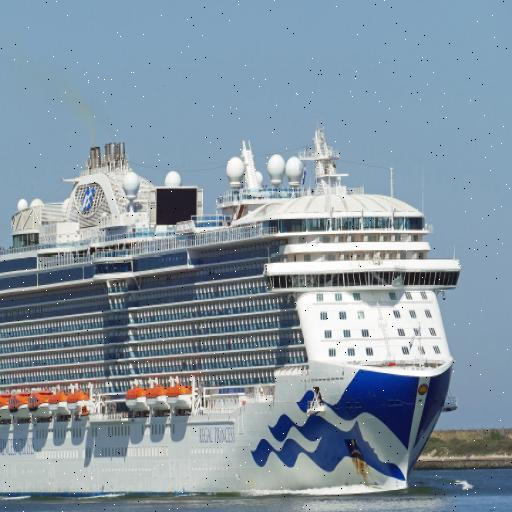cruises: (1, 123, 467, 511)
